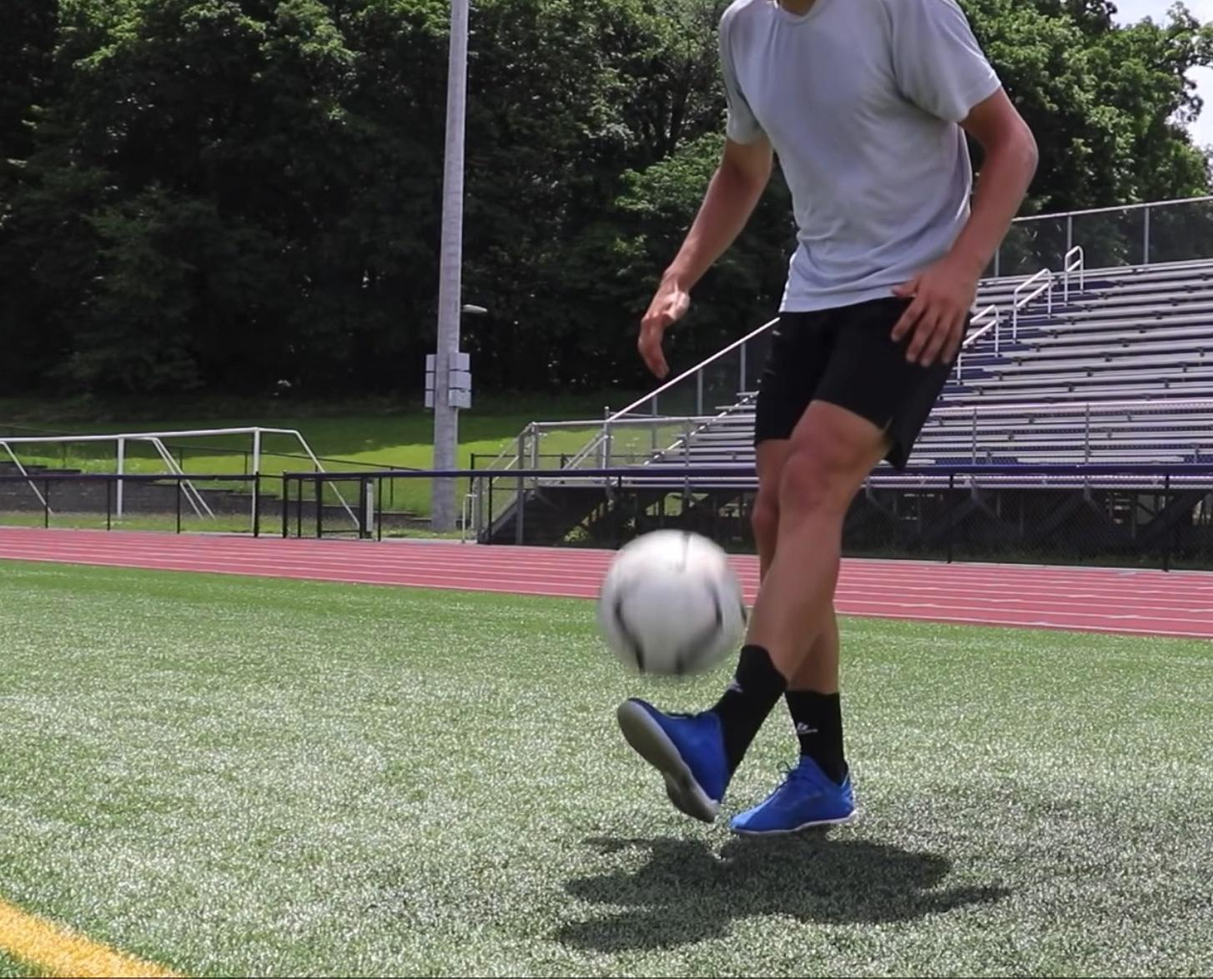ball: (597, 529, 749, 680)
foot: (615, 698, 733, 823), (728, 757, 862, 842)
person: (616, 0, 1040, 838)
